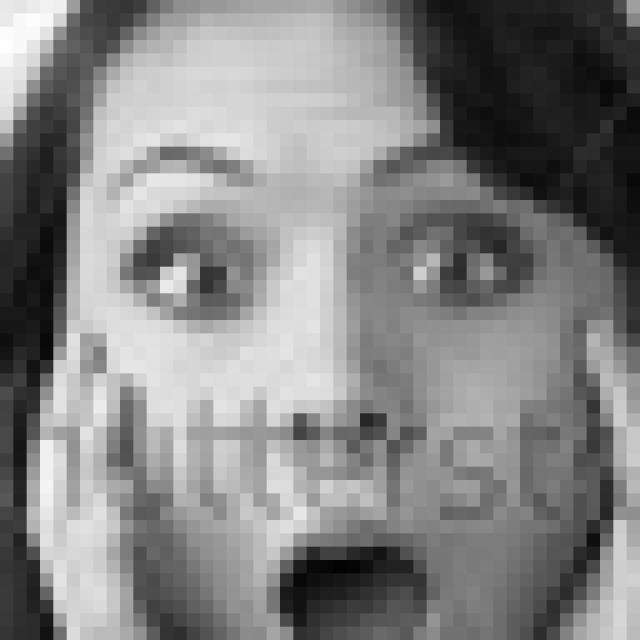surprise: (91, 131, 539, 640)
